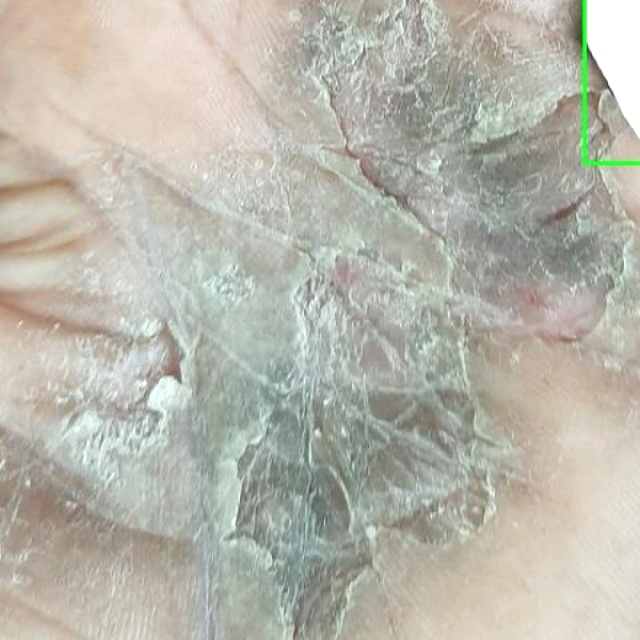Contact Dermatitis: (584, 0, 639, 162)
